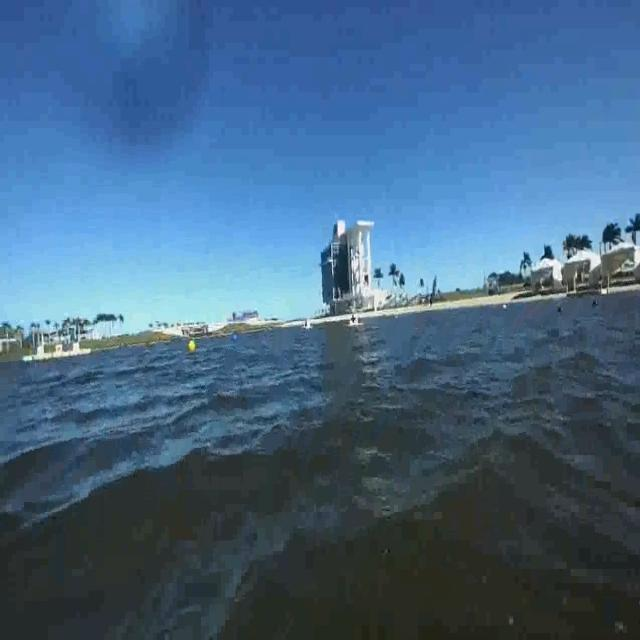blue-buoy: (231, 332, 238, 342)
yellow-buoy: (187, 339, 196, 355)
